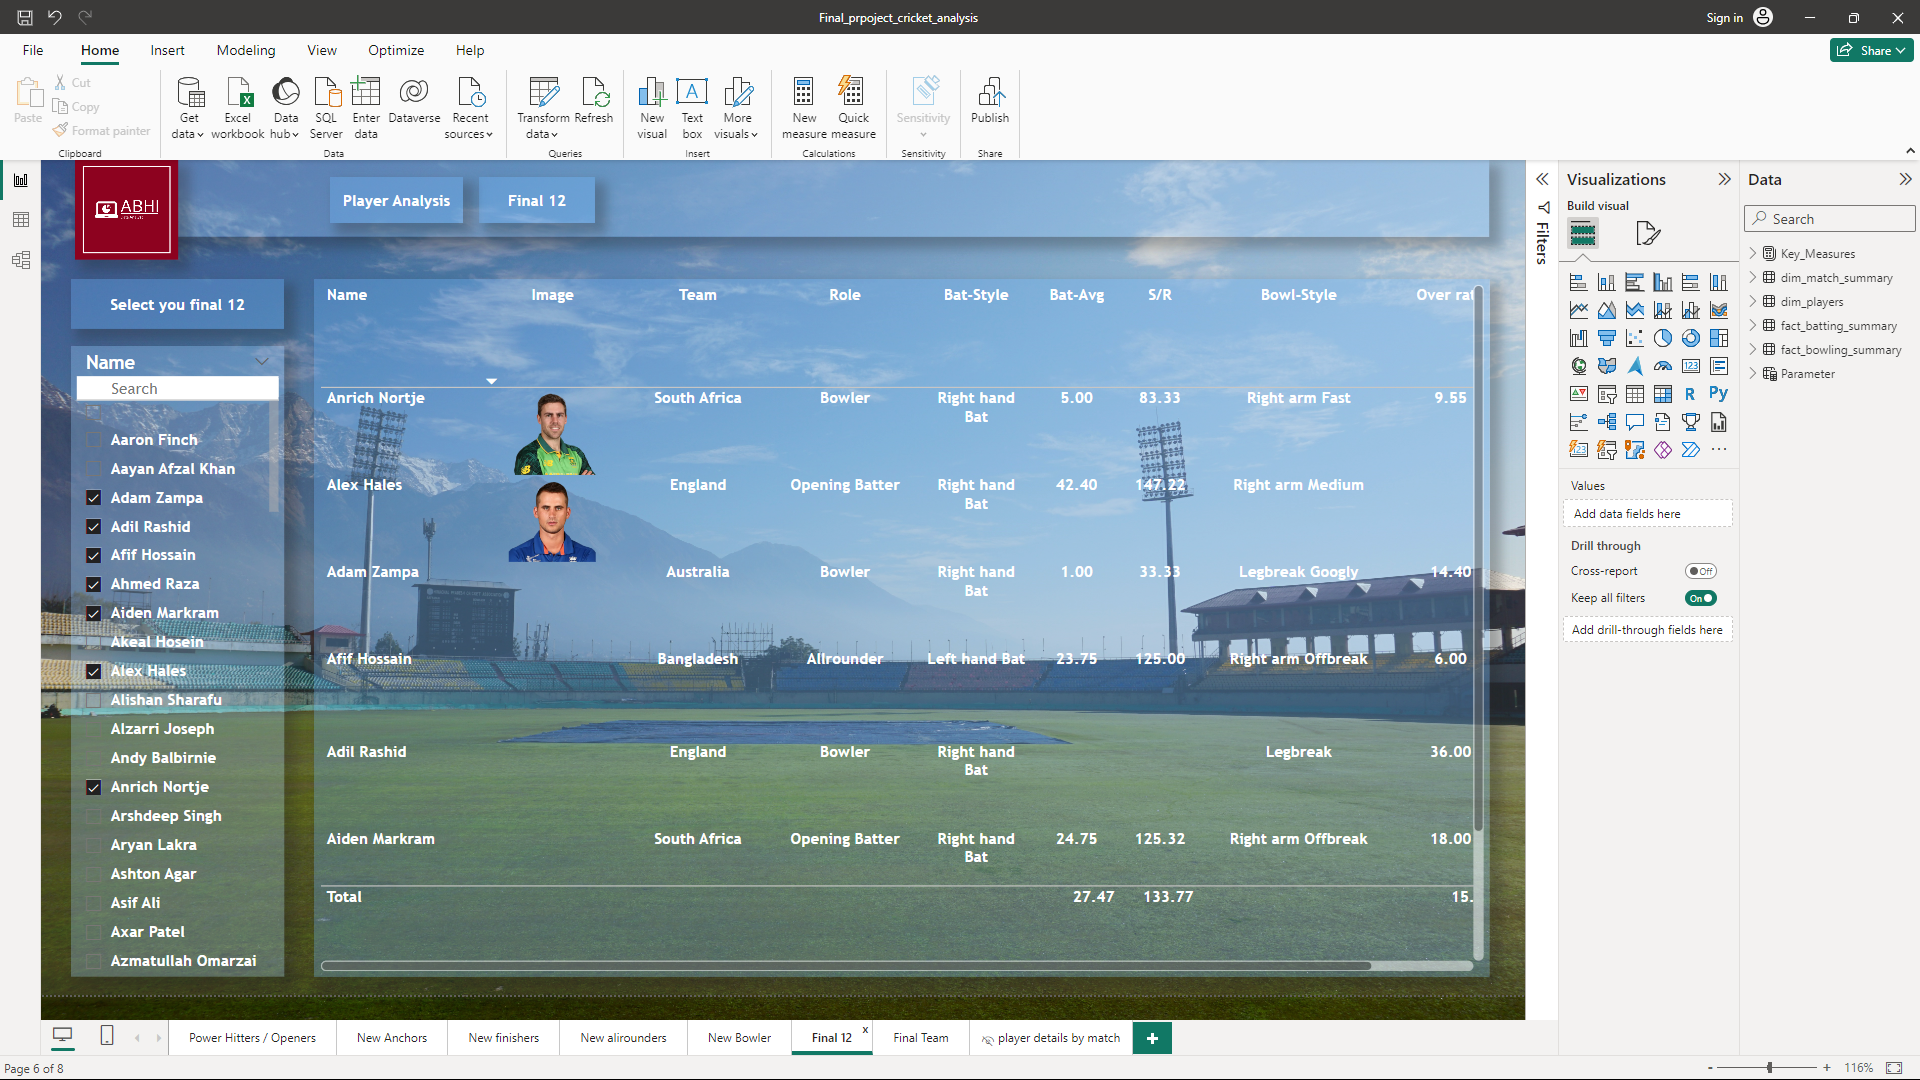

The dashboard page shown, as its layout file describes it:
{"tool":"powerbi","page":{"name":"Final 12","canvas":[1280,720],"ordinal":3},"visuals":[{"type":"shape","box":[29.3,0,1220.5,66.4],"z":1000},{"type":"image","box":[29.3,0,88.8,86.3],"z":2000},{"type":"actionButton","box":[377.8,14.7,100.1,39.7],"z":3000},{"type":"actionButton","box":[249.3,14.7,114.7,39.7],"z":4000},{"type":"shape","box":[25.9,102.6,183.7,43.1],"z":6000},{"type":"slicer","fields":{"Values":["dim_player.name"]},"box":[25.9,160.4,183.7,544.3],"z":7000},{"type":"tableEx","fields":{"Values":["dim_player.name","dim_player.image","dim_player.team","dim_player.Playing Role","dim_player.Batting Style","Key_Measures.Bat Avg","Key_Measures.Strike rate","dim_player.Bowling Style","Key_Measures.Economy","Key_Measures.Bowling Strike Rate","Key_Measures.Bowling Average"]},"box":[235.5,102.6,1014.3,602],"z":8000}]}

Visuals, with their boxes on the page's 1280x720 design canvas (x1, y1, x2, y2). These are canvas units, not pixel positions in the 1920x1080 screenshot, which may show the page scaled, cropped or inside an application window:
shape: 29:0:1250:66
image: 29:0:118:86
actionButton: 378:15:478:54
actionButton: 249:15:364:54
shape: 26:103:210:146
slicer - dim_player.name: 26:160:210:705
tableEx - dim_player.name x dim_player.image: 236:103:1250:705
